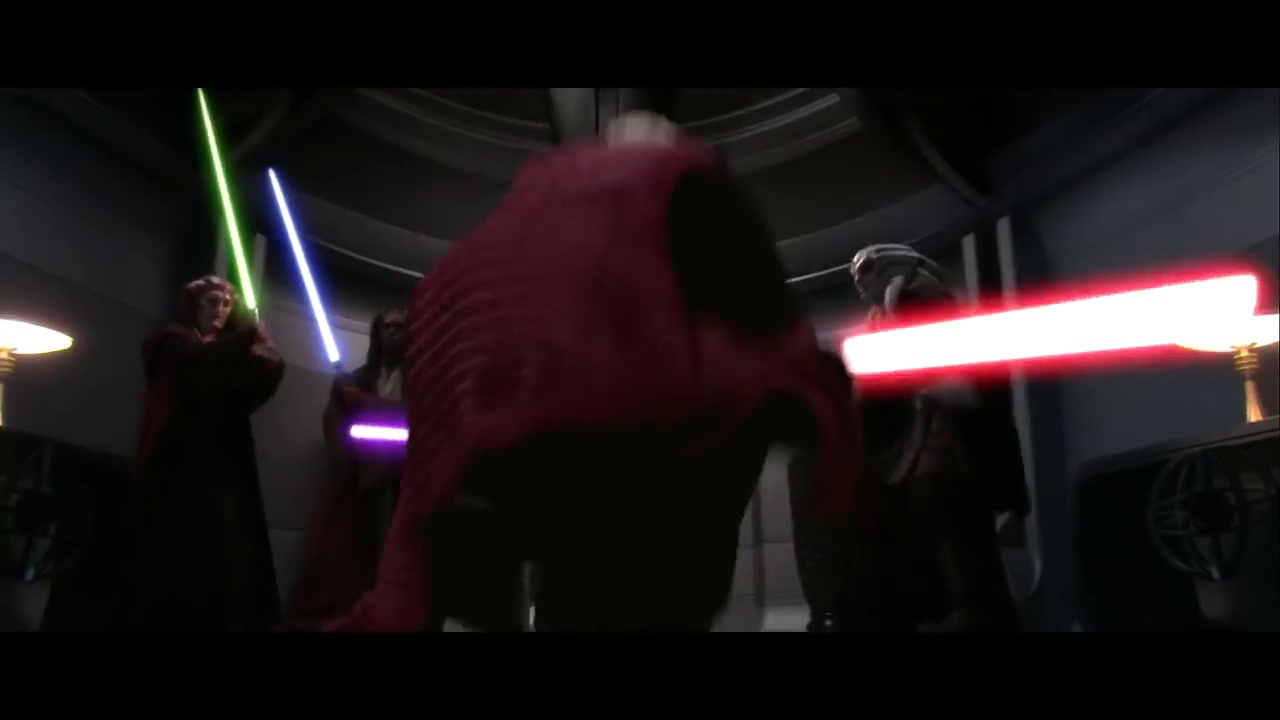lightsaber: (826, 253, 1267, 397), (253, 158, 373, 404), (170, 86, 276, 343)
